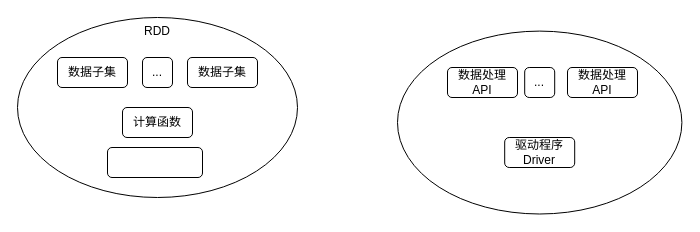
Image size: 700x232. Some labels were removed from this diagram. The box of each missing label's shape, as (x1, y1, x2, y2) in pixels:
Spark Core: (396, 30, 682, 214)
依赖 RDD 列表: (106, 146, 202, 178)
